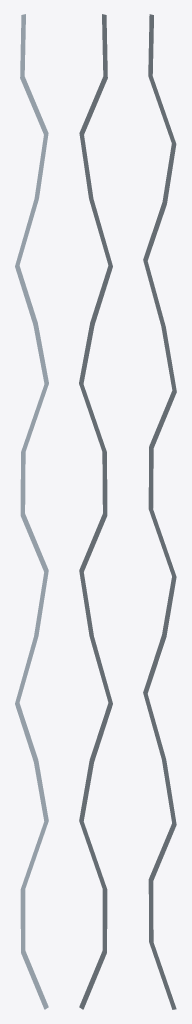
File: Keqing_StarwardSword_Full_OpeningFineArc2.fbx
The picture shows the model from 3 angles, left to right: view 1: azimuth 30°, elevation 25°; view 2: azimuth 150°, elevation 25°; view 3: azimuth 330°, elevation 25°; orthographic projection.
Visible parts, largest first — view 1: PART_OpeningFineArc2; view 2: PART_OpeningFineArc2; view 3: PART_OpeningFineArc2.
Part boxes in pixels (left/top/right/bottom): PART_OpeningFineArc2: left=15, top=14, right=48, bottom=1009; PART_OpeningFineArc2: left=79, top=14, right=112, bottom=1009; PART_OpeningFineArc2: left=143, top=14, right=176, bottom=1009.
Bounding box in the file's own units: 17.7 × 495 × 8.06e-05.
